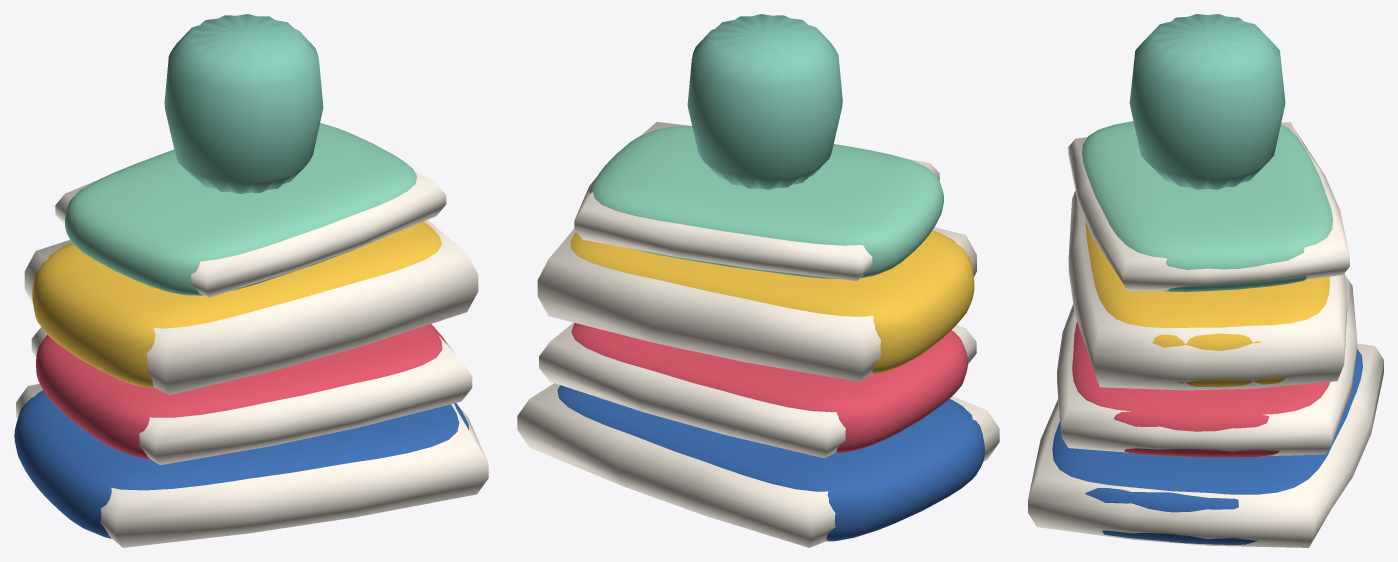
The model's file is deco_libros.glb.
3 renders of one model, left to right at view 1: azimuth 30°, elevation 25°; view 2: azimuth 150°, elevation 25°; view 3: azimuth 270°, elevation 25°, orthographic. The views are drawn at different scales.
Visible parts, largest first — view 1: libro 3.001, taza libros.001, hojas 2.001, hojas 0.001, libro 2.001, libro 0.001, libro 1.001, hojas 1.001, hojas 3.001; view 2: libro 3.001, taza libros.001, hojas 2.001, libro 0.001, libro 2.001, hojas 0.001, libro 1.001, hojas 1.001, hojas 3.001; view 3: libro 3.001, taza libros.001, hojas 0.001, hojas 2.001, libro 0.001, hojas 1.001, libro 2.001, libro 1.001, hojas 3.001.
Part boxes in pixels (x1=…): libro 3.001: x1=65, y1=123, x2=416, y2=295; taza libros.001: x1=164, y1=14, x2=323, y2=193; hojas 2.001: x1=24, y1=220, x2=478, y2=395; hojas 0.001: x1=16, y1=384, x2=488, y2=547; libro 2.001: x1=32, y1=221, x2=441, y2=387; libro 0.001: x1=14, y1=390, x2=468, y2=538; libro 1.001: x1=36, y1=324, x2=446, y2=459; hojas 1.001: x1=31, y1=327, x2=472, y2=465; hojas 3.001: x1=55, y1=170, x2=446, y2=297; libro 3.001: x1=589, y1=126, x2=943, y2=278; taza libros.001: x1=687, y1=14, x2=842, y2=189; hojas 2.001: x1=537, y1=227, x2=976, y2=381; libro 0.001: x1=557, y1=385, x2=984, y2=541; libro 2.001: x1=570, y1=230, x2=974, y2=374; hojas 0.001: x1=517, y1=383, x2=999, y2=547; libro 1.001: x1=571, y1=323, x2=967, y2=453; hojas 1.001: x1=539, y1=322, x2=976, y2=458; hojas 3.001: x1=574, y1=122, x2=939, y2=280; libro 3.001: x1=1082, y1=121, x2=1332, y2=292; taza libros.001: x1=1129, y1=14, x2=1285, y2=189; hojas 0.001: x1=1028, y1=343, x2=1383, y2=547; hojas 2.001: x1=1068, y1=191, x2=1347, y2=390; libro 0.001: x1=1052, y1=349, x2=1362, y2=544; hojas 1.001: x1=1057, y1=275, x2=1357, y2=456; libro 2.001: x1=1085, y1=221, x2=1329, y2=387; libro 1.001: x1=1072, y1=321, x2=1330, y2=457; hojas 3.001: x1=1068, y1=122, x2=1349, y2=291.
Size of the model in its own units: 0.203 by 0.2199 by 0.1614.
